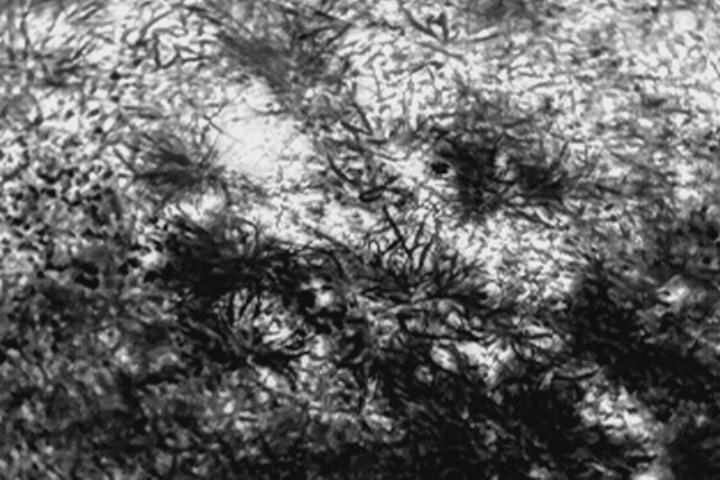landmine: (392, 119, 492, 215)
